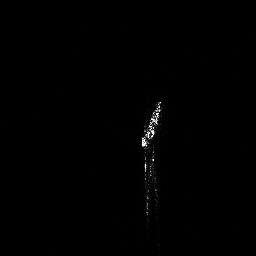ship: (141, 98, 165, 220)
